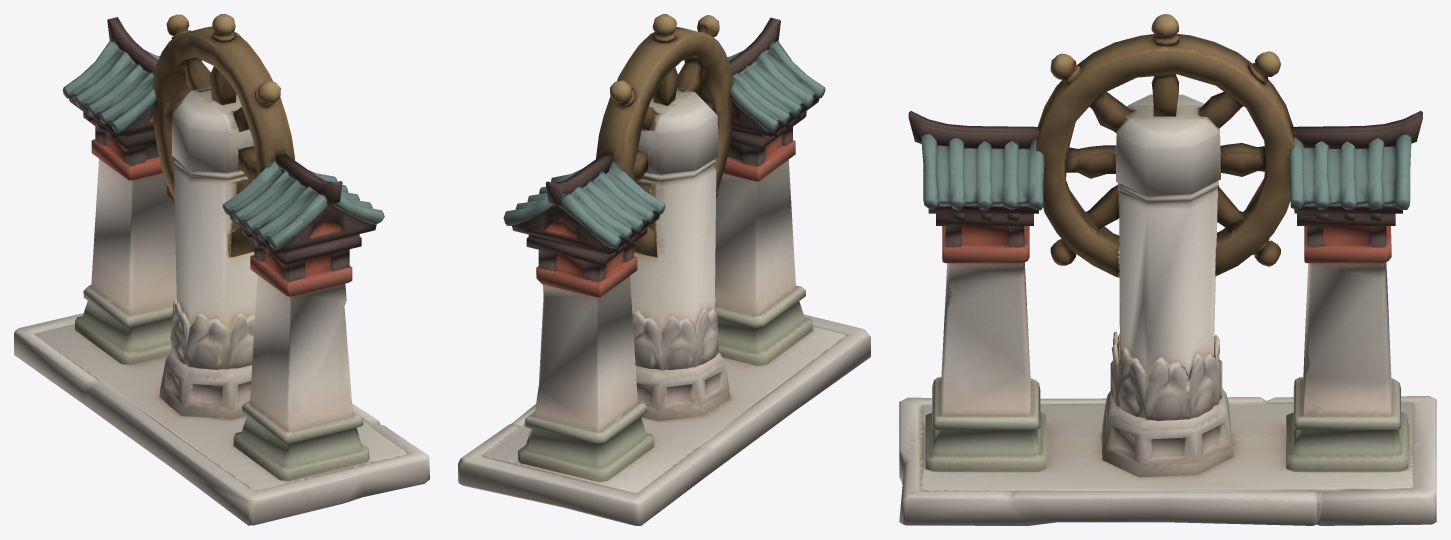
The model's file is tripo_convert_fa65b5f4-4594-48d9-8117-11d9829fd6a3.fbx.
3 views of the same model, side by side, from view 1: azimuth 30°, elevation 25°; view 2: azimuth 150°, elevation 25°; view 3: azimuth 270°, elevation 25° (orthographic). The views are drawn at different scales.
Visible parts, largest first — view 1: tripo_node_fa65b5f4; view 2: tripo_node_fa65b5f4; view 3: tripo_node_fa65b5f4.
Boxes of the visible parts, <box> form: tripo_node_fa65b5f4: <box>14,14,429,525</box>; tripo_node_fa65b5f4: <box>458,14,870,525</box>; tripo_node_fa65b5f4: <box>899,14,1436,525</box>.
Bounding box in the file's own units: 0.4512 × 0.9434 × 0.998.
1 material, 1 textured.
